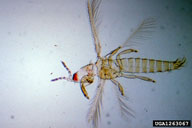Thrips: (49, 41, 184, 106)
